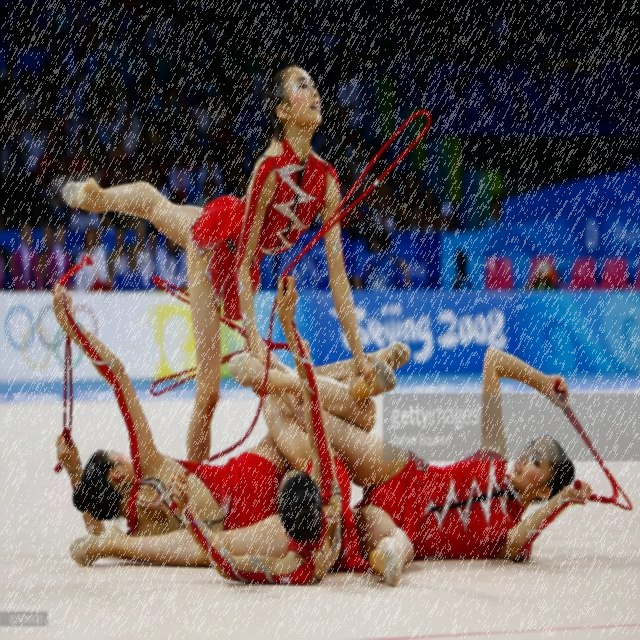pessoa: (61, 62, 382, 466), (228, 328, 594, 586), (51, 280, 413, 538), (65, 291, 359, 536), (3, 40, 235, 289), (326, 51, 509, 292)
